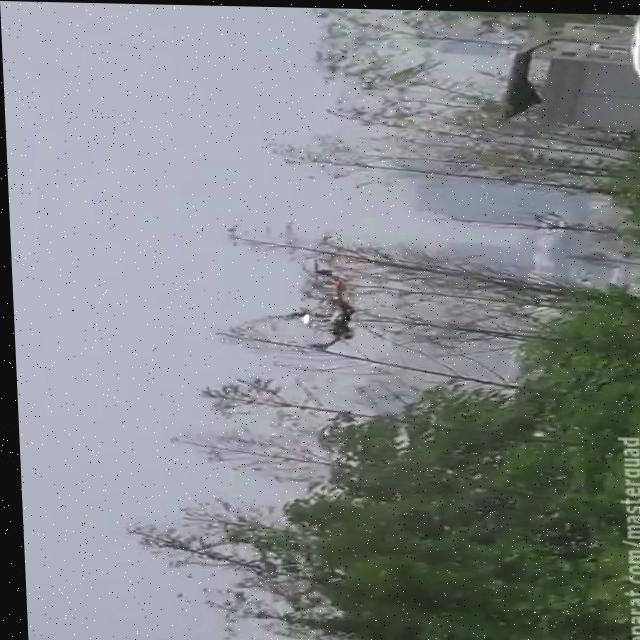drone: (282, 259, 363, 350)
